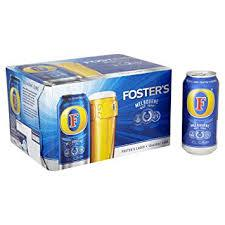beer: (182, 71, 219, 157)
